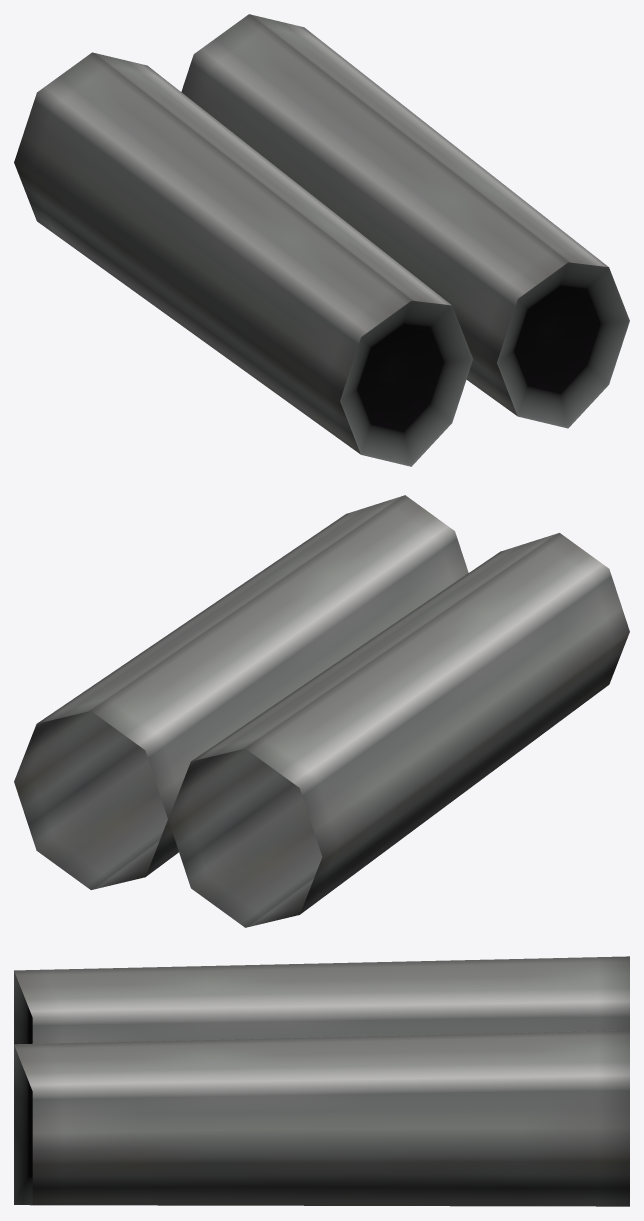
The model's file is exh_lr_bl1.glb.
3 views of the same model, one above another, from view 1: azimuth 30°, elevation 25°; view 2: azimuth 150°, elevation 25°; view 3: azimuth 270°, elevation 25° (orthographic). The views are drawn at different scales.
Parts seen in each view (by area): view 1: exh_lr_bl1; view 2: exh_lr_bl1; view 3: exh_lr_bl1.
Boxes of the visible parts, x1=… form: exh_lr_bl1: x1=14, y1=14, x2=629, y2=466; exh_lr_bl1: x1=14, y1=495, x2=629, y2=927; exh_lr_bl1: x1=14, y1=956, x2=629, y2=1206.
Size of the model in its own units: 0.1869 by 0.1038 by 0.3299.
1 material, 1 textured.
